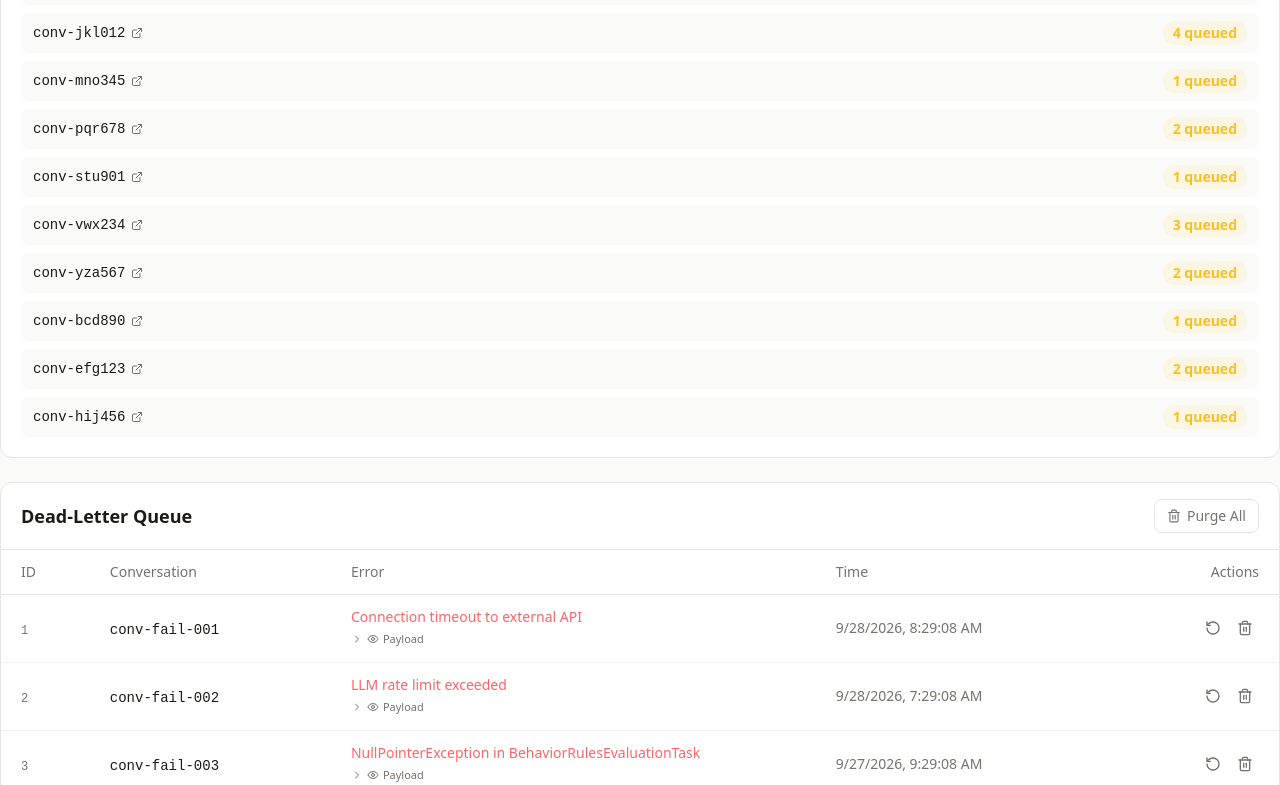
Test: CoordinatorPage › toggles payload visibility when payload button is clicked
(page scrolled)
Expected: the text "conv-fail-001" is shown, [110,622,219,638]
What coordinates should you click on to do the following:
click the button with test id "toggle-payload-1"
I would click on:
 (387, 639)
Its box is [351,631,424,647].
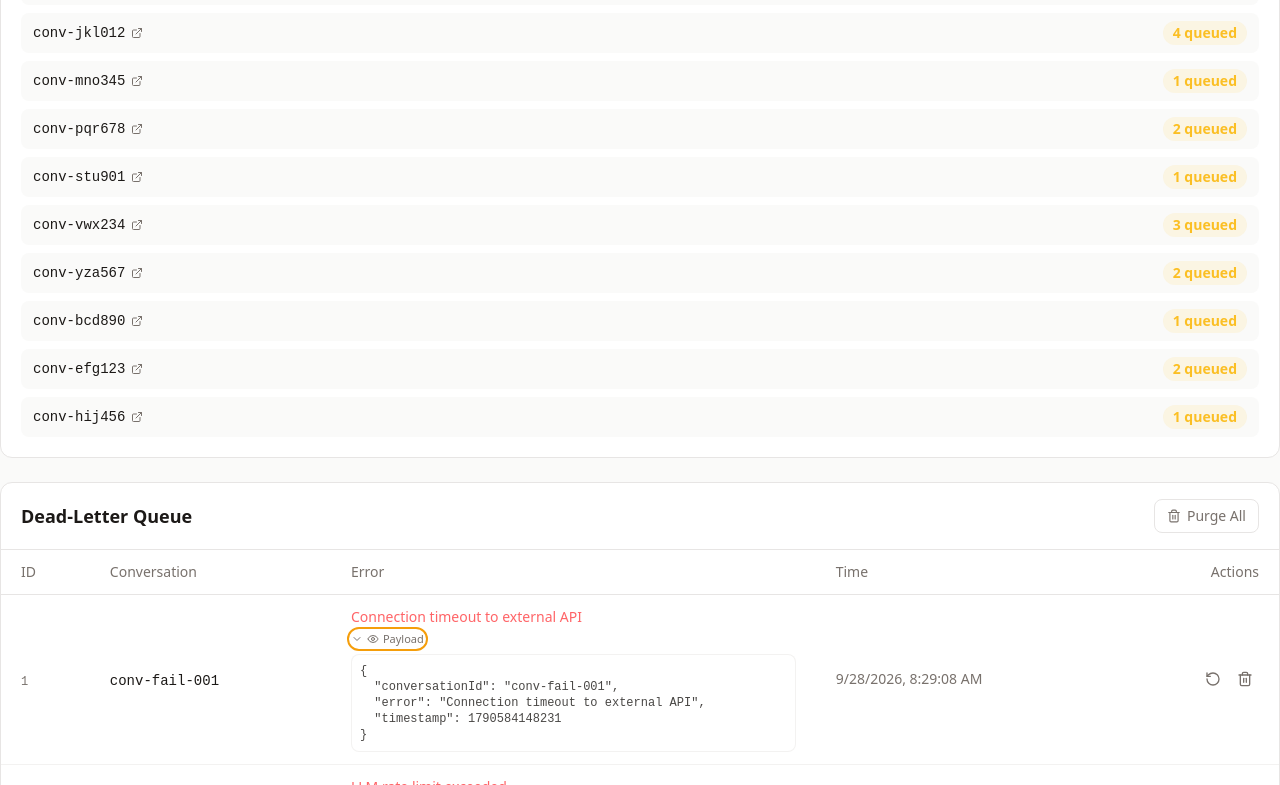
Result: the text with test id "payload-content-1" is shown at [351,654,796,752]
# Toggle again to hide
What coordinates should you click on to do the following:
click the button with test id "toggle-payload-1"
I would click on:
 (387, 639)
Its box is [351,631,424,647].
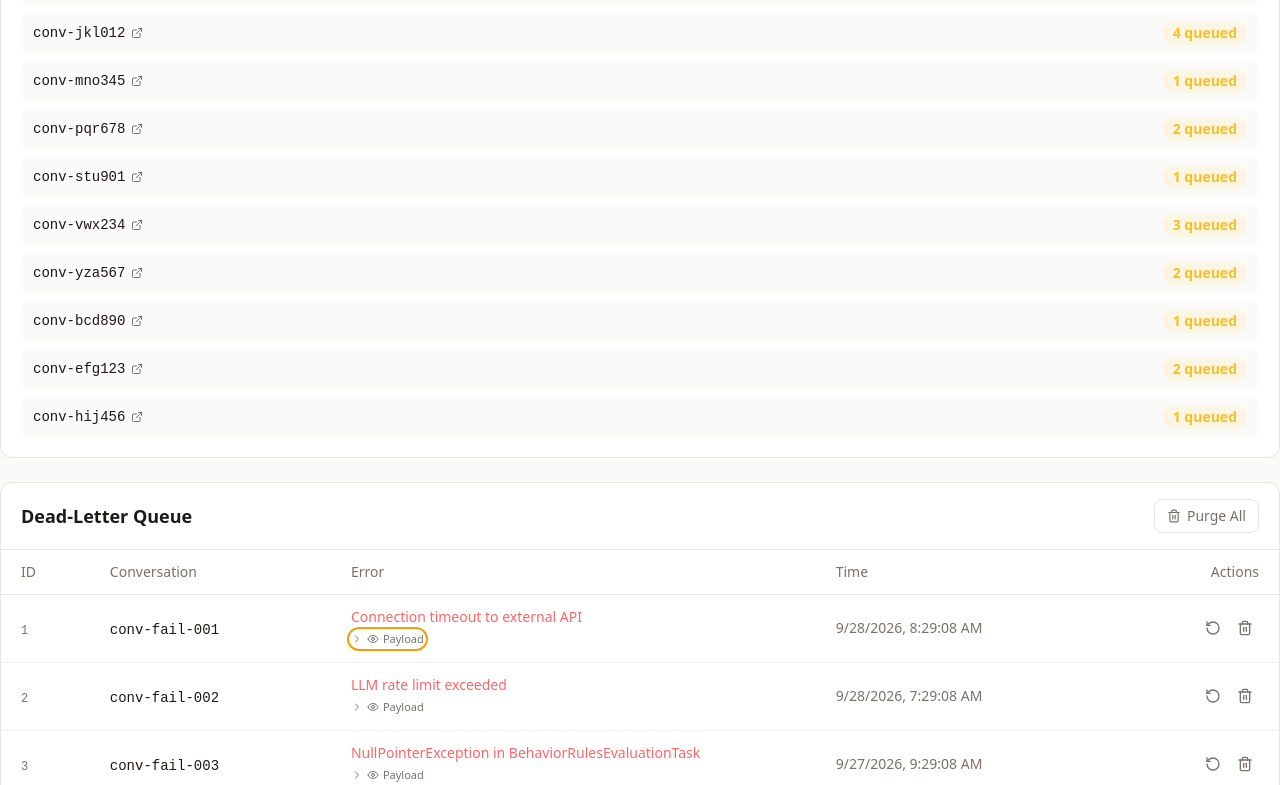
Result: the text with test id "payload-content-1" is gone
